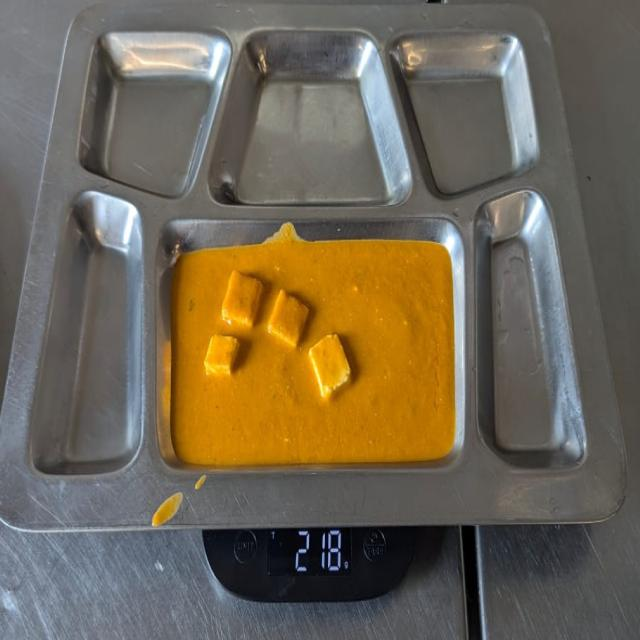Paneer Curry: (170, 242, 455, 460)
